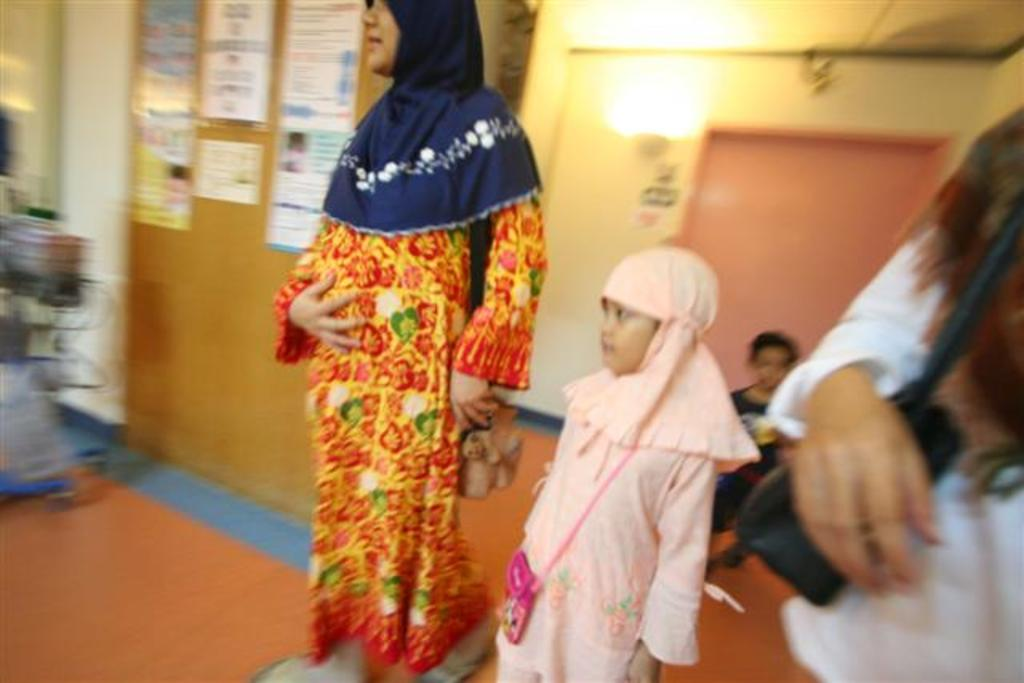Person: (705, 331, 802, 581)
